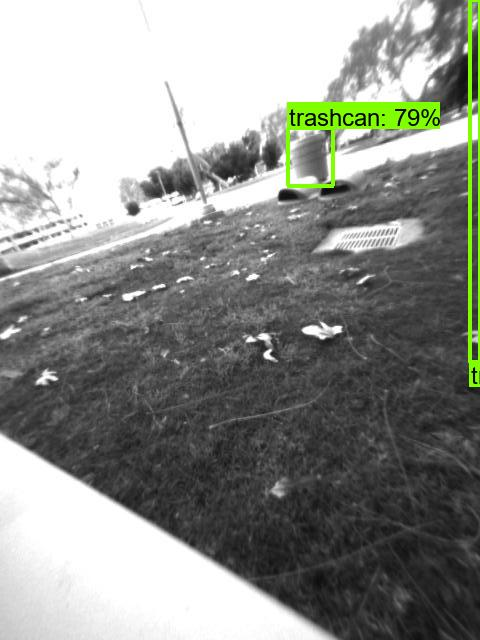trashcan: (286, 126, 331, 185)
